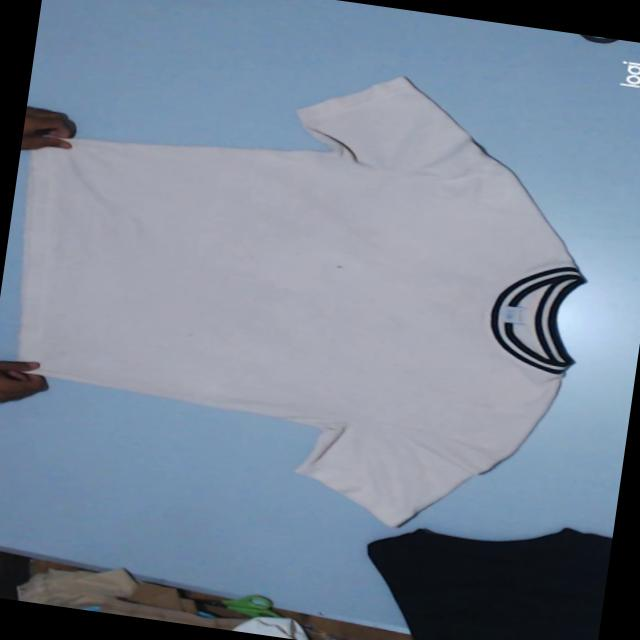new-garment: (20, 77, 584, 525)
